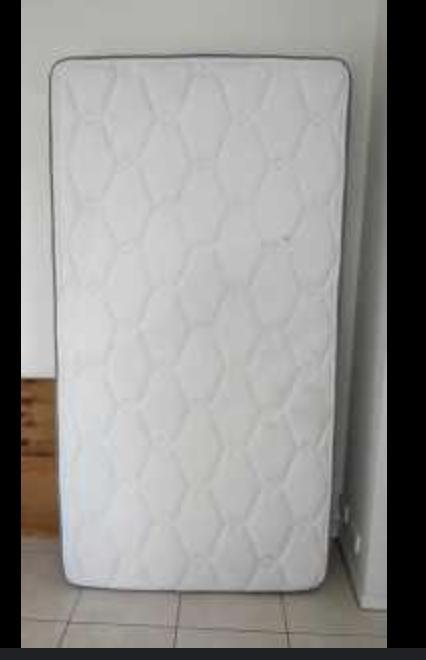Bed-Mattress: (42, 51, 357, 596)
